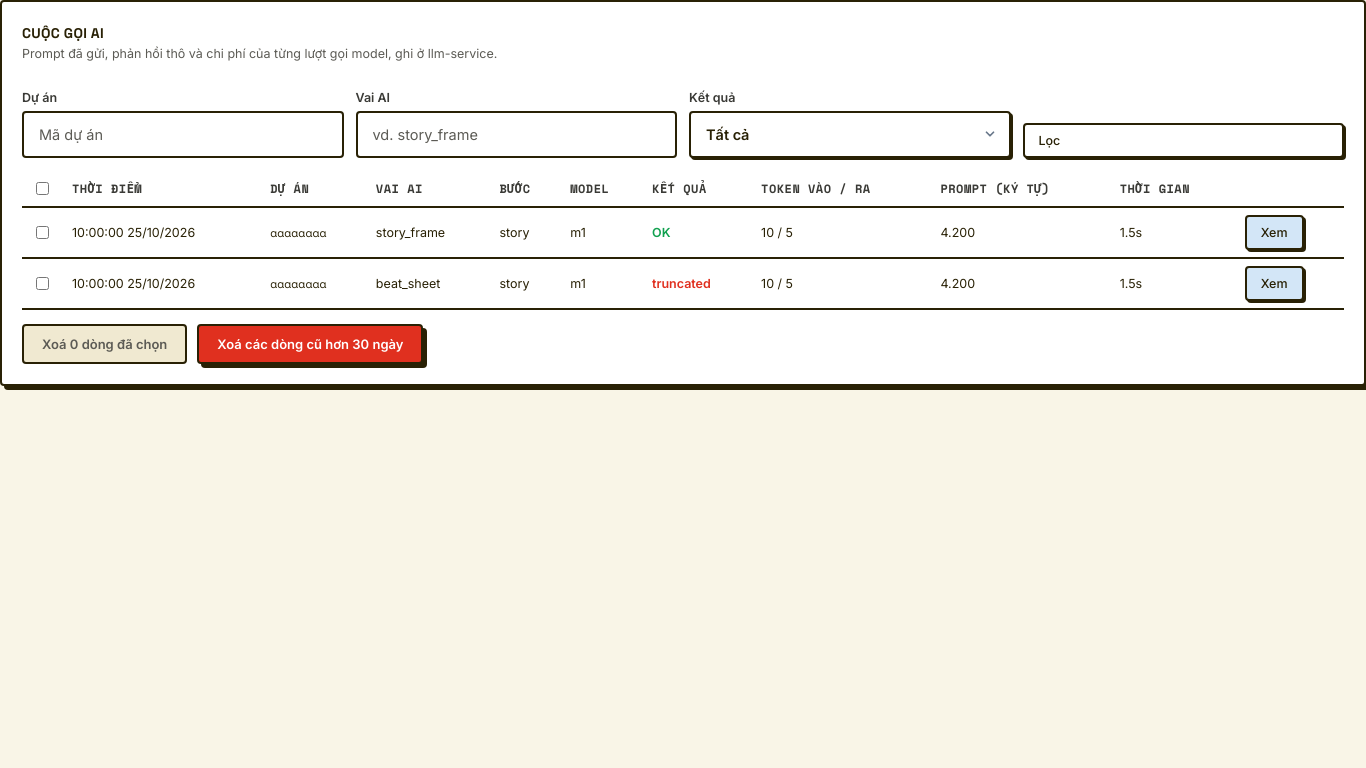
Scenario: LlmCallsPanel › shows the system and user prompt that went out, each ready to copy, with the context window
The image size is (1366, 768).
Expected: the row with test id "llm-call-c1" shows "4.200", [940,224,975,240]
Click the button with test id "llm-view-c1": click(1274, 232) [1245,214,1304,250]
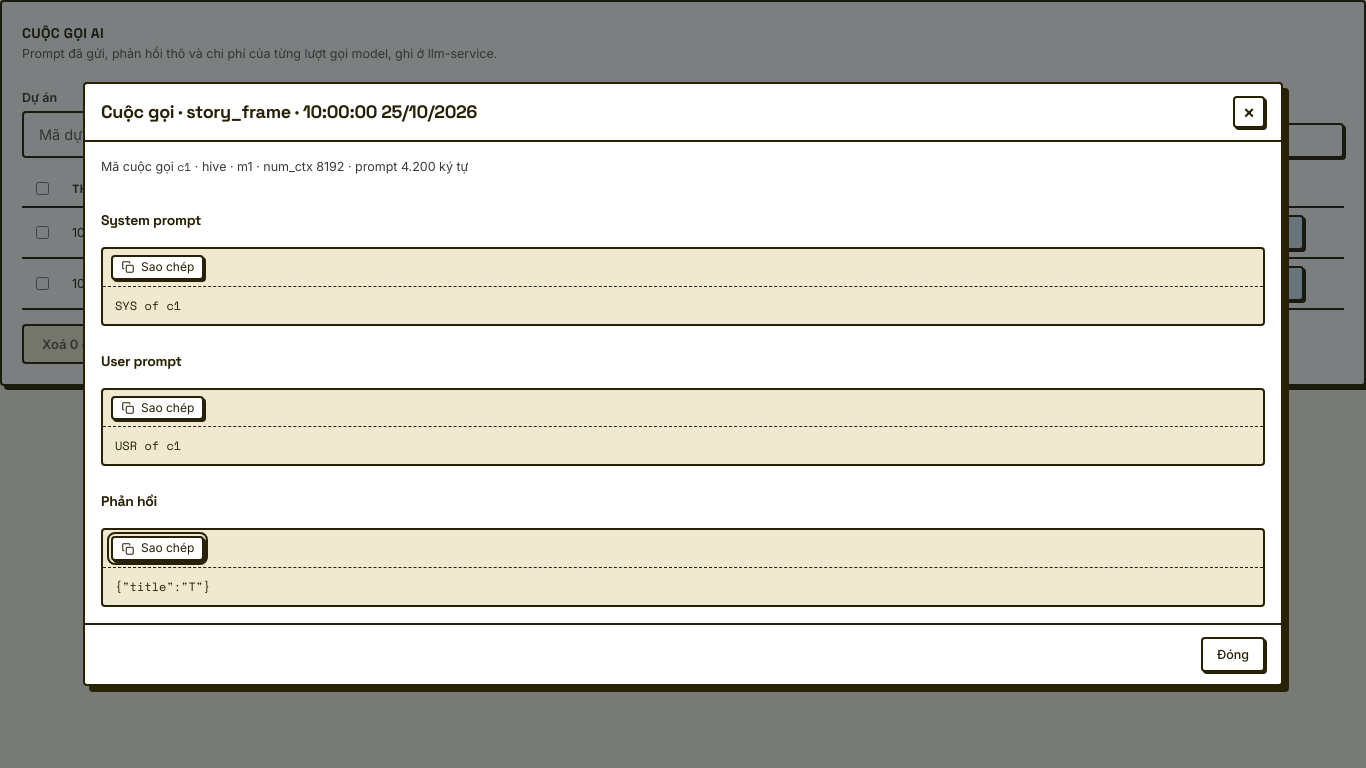
Now the text with test id "llm-system-text" reads "SYS of c1", box [115,297,181,314]
Now the text with test id "llm-user-text" reads "USR of c1", box [115,437,181,454]
Now the button with test id "llm-system-copy" is shown, box [111,255,204,280]
